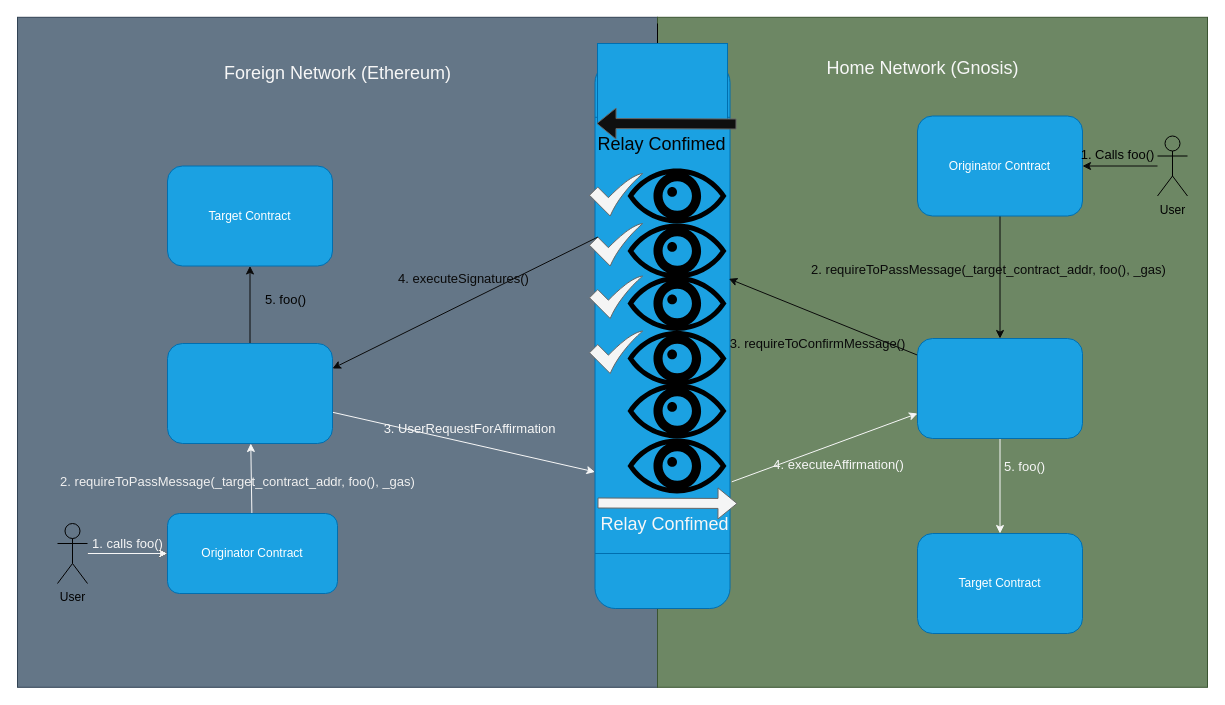
Image size: 1225x705. Some labels were removed from this diagram. The centre of each missing label's shape, as x and y in pixels:
"AMB Oracles" belongs at point 662,83.
"Foreign Bridge Contract" belongs at point 249,393.
"Home Bridge Contract" belongs at point 999,388.
